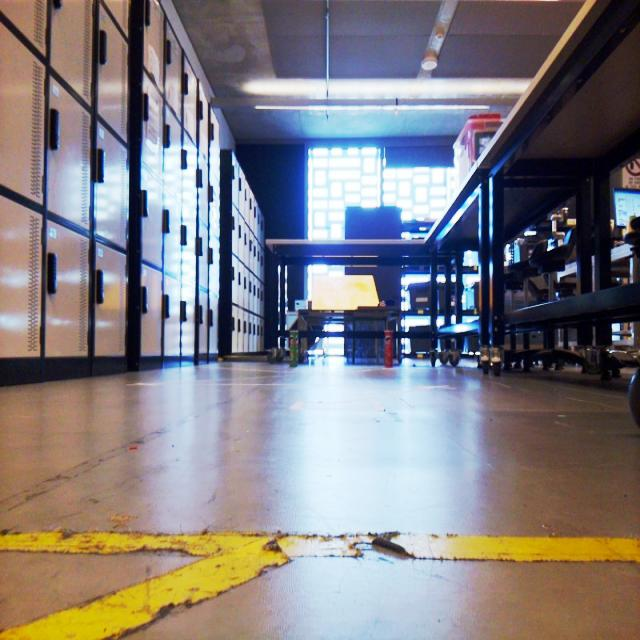greenpringles: (284, 328, 304, 370)
redpringles: (378, 328, 396, 370)
